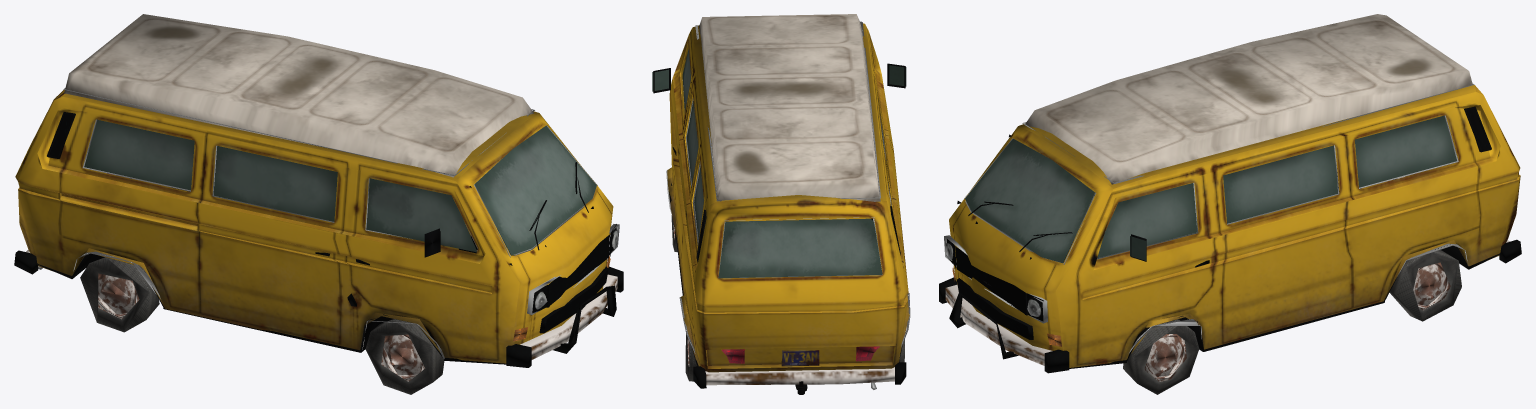
Rendered from volkswagen_t3_opt.glb.
3 views of the same model, side by side, from view 1: azimuth 30°, elevation 25°; view 2: azimuth 150°, elevation 25°; view 3: azimuth 270°, elevation 25° (orthographic). The views are drawn at different scales.
Parts seen in each view (by area): view 1: Plane; view 2: Plane; view 3: Plane.
Boxes of the visible parts, x1,y1,x2,y2 form: Plane: (14,14,623,394); Plane: (652,14,910,394); Plane: (939,14,1521,394).
Size of the model in its own units: 2.44 by 1.32 by 3.
Materials: 2 (2 with a texture image).
